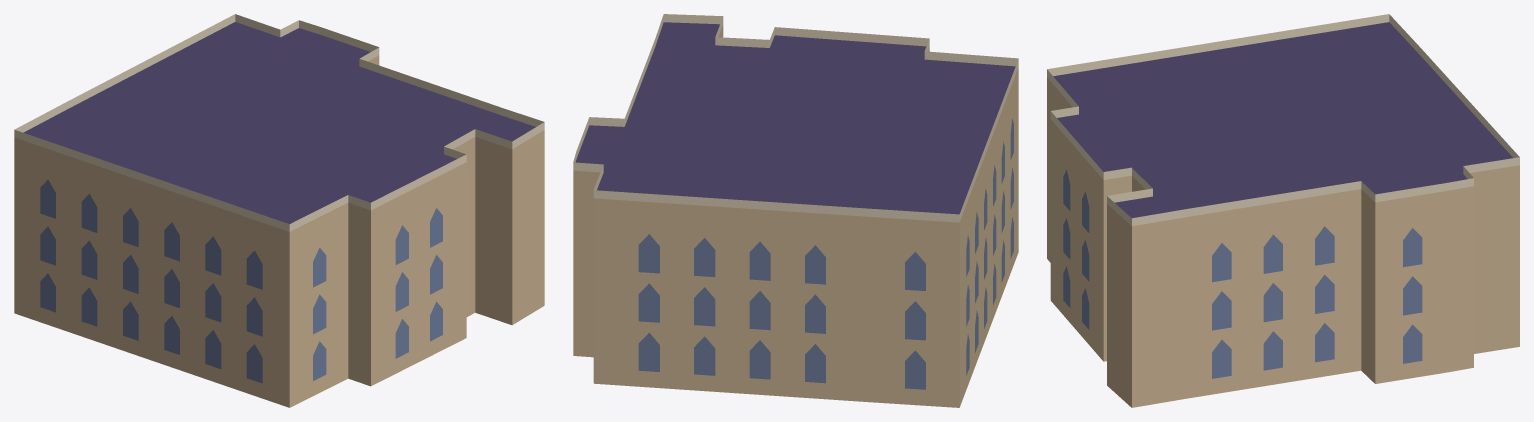
Rendered from b-099-day.glb.
The picture shows the model from 3 angles, left to right: view 1: azimuth 30°, elevation 25°; view 2: azimuth 150°, elevation 25°; view 3: azimuth 270°, elevation 25°; orthographic projection. The views are drawn at different scales.
Visible parts, largest first — view 1: campus/b-099-day-0; view 2: campus/b-099-day-0; view 3: campus/b-099-day-0.
Part boxes in pixels (x1=…): campus/b-099-day-0: x1=14, y1=14, x2=544, y2=407; campus/b-099-day-0: x1=573, y1=14, x2=1018, y2=407; campus/b-099-day-0: x1=1047, y1=14, x2=1519, y2=407.
Bounding box in the file's own units: 29.91 × 12.95 × 29.25.
